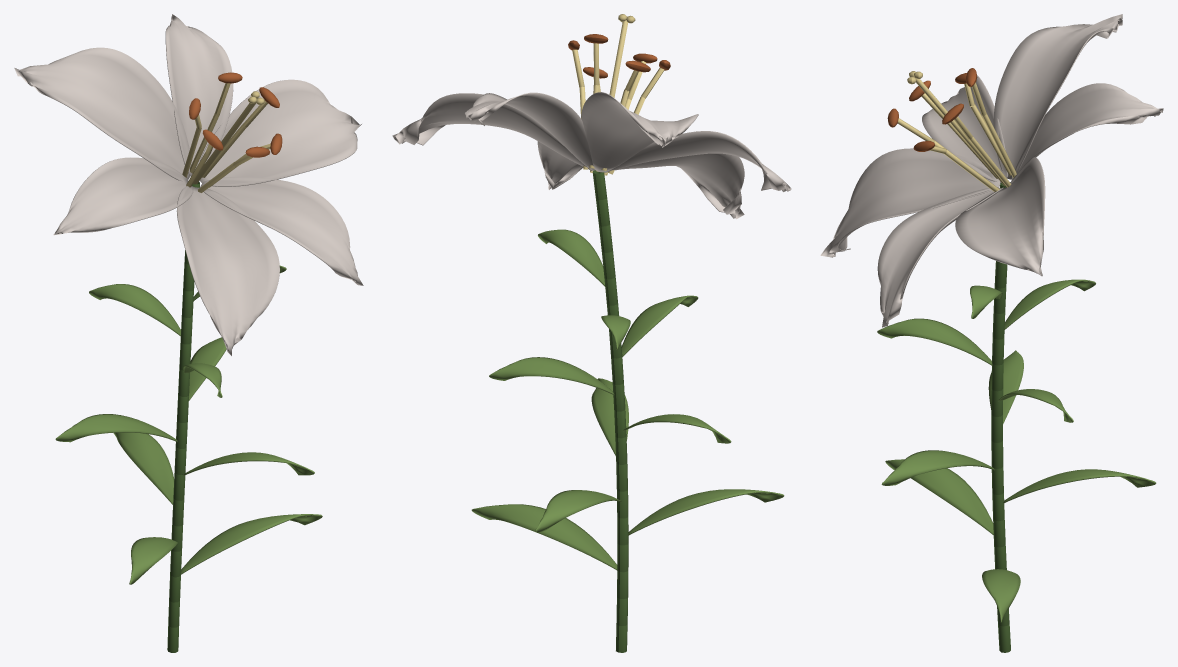
File: true-lily-common-v2.glb
3 views of the same model, side by side, from view 1: azimuth 30°, elevation 25°; view 2: azimuth 150°, elevation 25°; view 3: azimuth 270°, elevation 25° (orthographic). The views are drawn at different scales.
Parts seen in each view (by area): view 1: true-lily-common-v2-petal, true-lily-common-v2-leaf, true-lily-common-v2-stem, true-lily-common-v2-center, true-lily-common-v2-pollen; view 2: true-lily-common-v2-petal, true-lily-common-v2-leaf, true-lily-common-v2-stem, true-lily-common-v2-center, true-lily-common-v2-pollen; view 3: true-lily-common-v2-petal, true-lily-common-v2-leaf, true-lily-common-v2-stem, true-lily-common-v2-center, true-lily-common-v2-pollen.
Part boxes in pixels (box(x1,y1,x2,y2)): true-lily-common-v2-petal: box(14, 14, 363, 355); true-lily-common-v2-leaf: box(55, 265, 322, 584); true-lily-common-v2-stem: box(167, 182, 199, 652); true-lily-common-v2-center: box(182, 83, 270, 192); true-lily-common-v2-pollen: box(189, 72, 282, 157); true-lily-common-v2-petal: box(392, 92, 791, 219); true-lily-common-v2-leaf: box(471, 229, 784, 570); true-lily-common-v2-stem: box(592, 170, 628, 652); true-lily-common-v2-center: box(572, 14, 664, 175); true-lily-common-v2-pollen: box(568, 34, 670, 78); true-lily-common-v2-petal: box(820, 14, 1163, 327); true-lily-common-v2-leaf: box(877, 279, 1156, 622); true-lily-common-v2-stem: box(991, 182, 1010, 652); true-lily-common-v2-center: box(897, 71, 1016, 191); true-lily-common-v2-pollen: box(887, 68, 977, 151).
Size of the model in its own units: 1.28 by 2.03 by 1.06.
